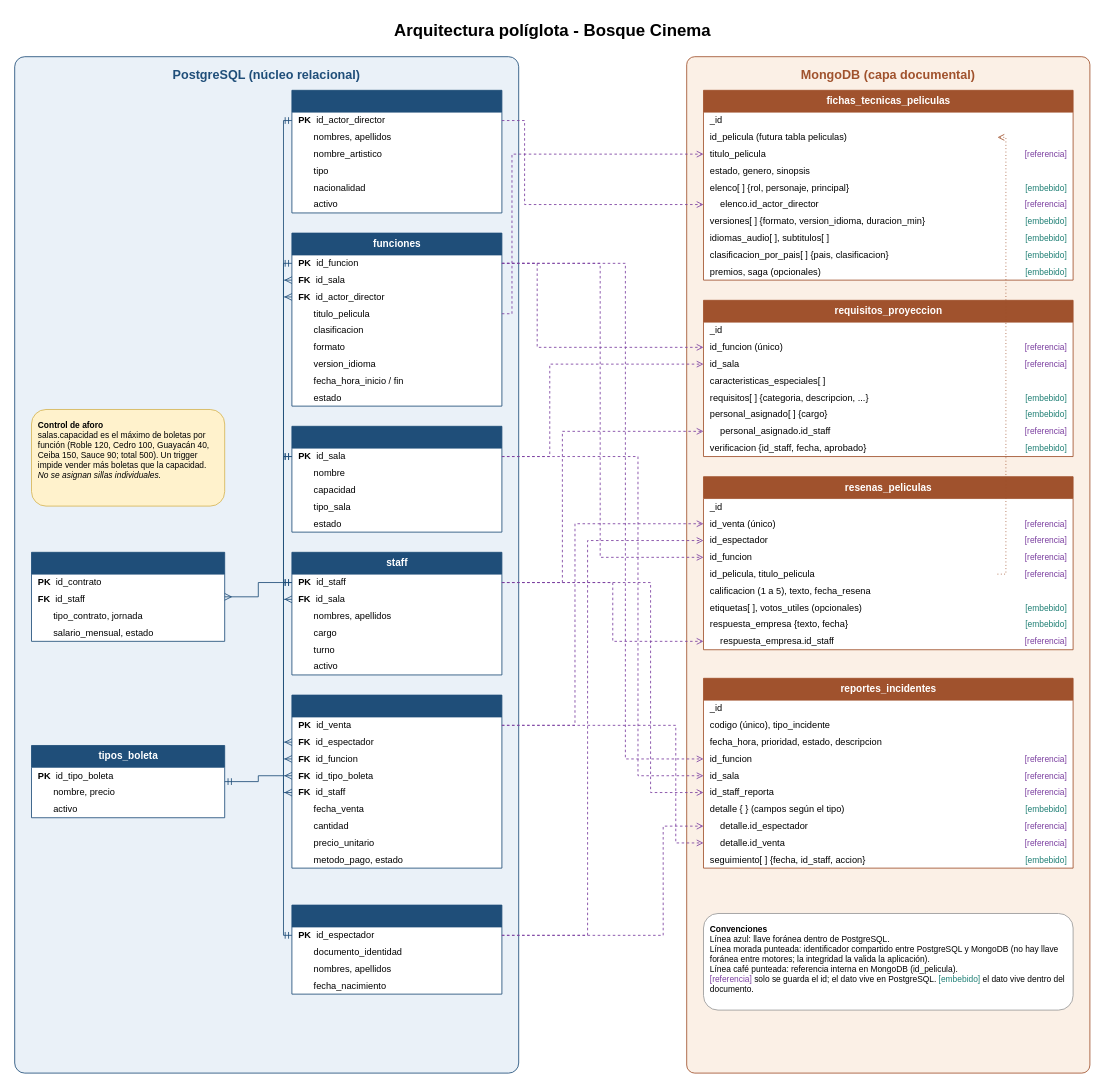
The diagram is 1105 pixels wide and 1088 high, and some of its shapes have lost their labels. Each missing label, with the box of its shape:
actores_directores: (291, 89, 502, 213)
contratos: (31, 551, 225, 641)
espectadores: (291, 904, 502, 994)
salas: (291, 425, 502, 532)
ventas: (291, 694, 502, 868)
